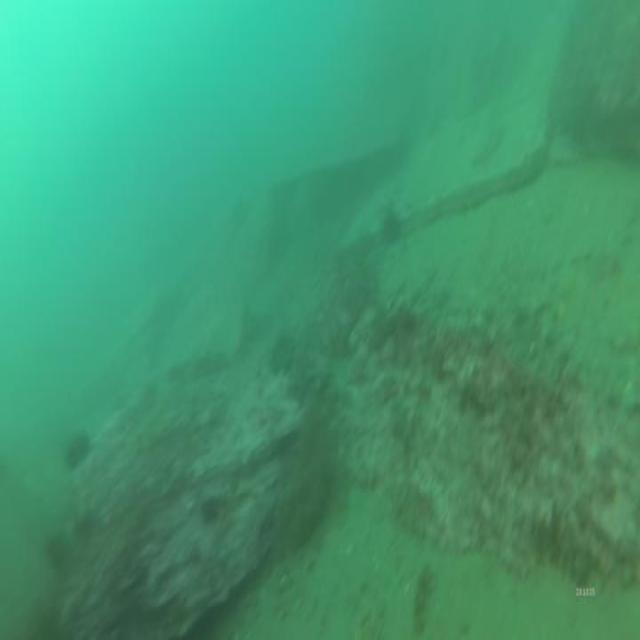echinus: (61, 426, 91, 478), (378, 201, 404, 254)
holothurian: (410, 559, 433, 640)
